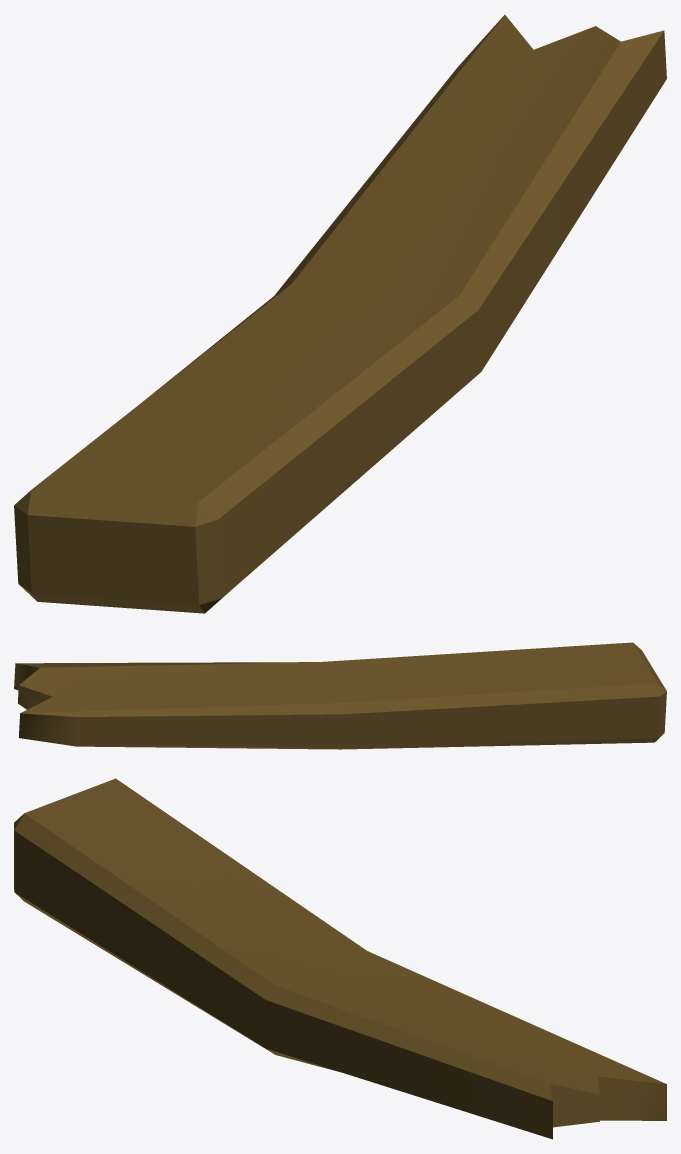
The model's file is SM_Plank2_Placeholder.fbx.
The picture shows the model from 3 angles, top to bottom: view 1: azimuth 30°, elevation 25°; view 2: azimuth 150°, elevation 25°; view 3: azimuth 270°, elevation 25°; orthographic projection. The views are drawn at different scales.
Parts seen in each view (by area): view 1: SM_Plank2_Placeholder; view 2: SM_Plank2_Placeholder; view 3: SM_Plank2_Placeholder.
Boxes of the visible parts, box(x1,y1,x2,y2) form: SM_Plank2_Placeholder: box(14, 14, 666, 613); SM_Plank2_Placeholder: box(14, 642, 666, 749); SM_Plank2_Placeholder: box(14, 778, 666, 1139).
Size of the model in its own units: 187 by 26.44 by 149.
